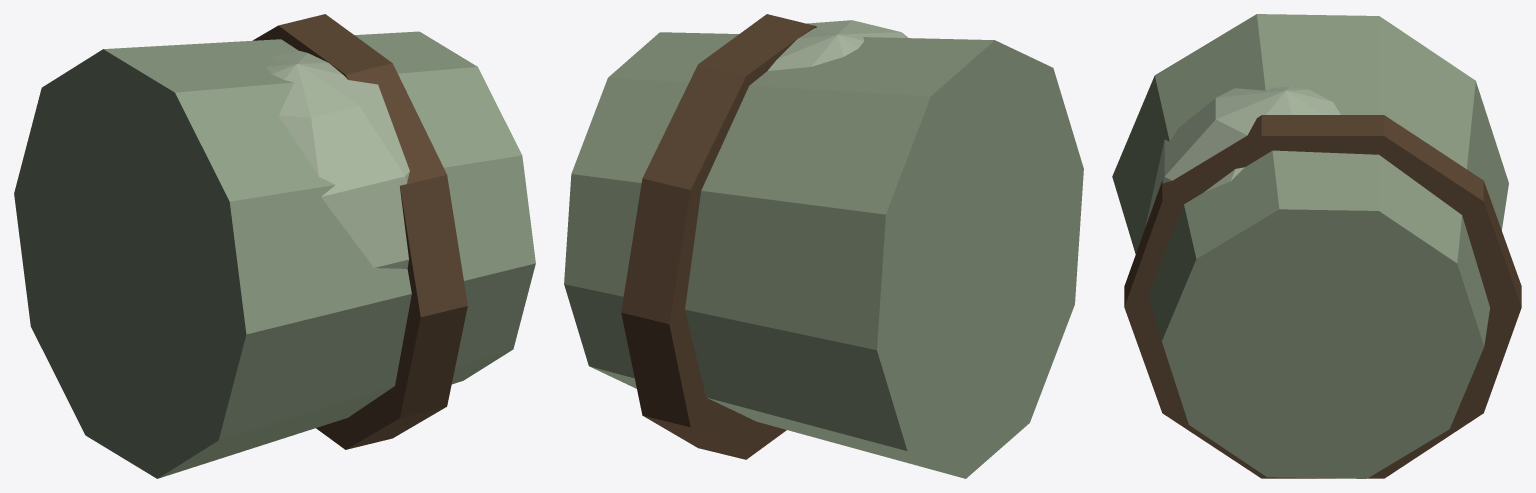
The model's file is stonebrow_shaman_arm_l.glb.
3 views of the same model, side by side, from view 1: azimuth 30°, elevation 25°; view 2: azimuth 150°, elevation 25°; view 3: azimuth 270°, elevation 25° (orthographic). The views are drawn at different scales.
Parts seen in each view (by area): view 1: stonebrow_shaman_arm_l; view 2: stonebrow_shaman_arm_l; view 3: stonebrow_shaman_arm_l.
Part boxes in pixels (left/top/right/bottom): stonebrow_shaman_arm_l: left=14, top=14, right=535, bottom=478; stonebrow_shaman_arm_l: left=564, top=14, right=1083, bottom=478; stonebrow_shaman_arm_l: left=1112, top=14, right=1521, bottom=478.
Size of the model in its own units: 0.2935 by 0.3256 by 0.3298.
